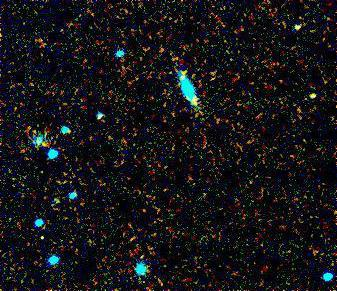star: (22, 224, 52, 254)
